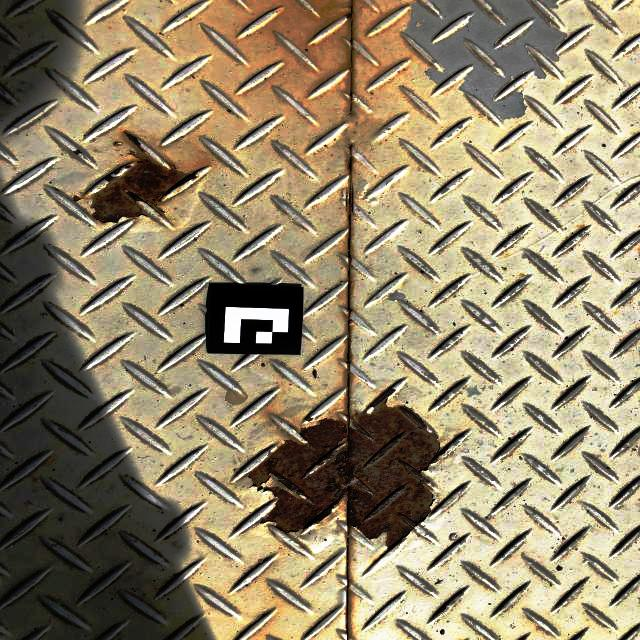Corrosion: (246, 378, 444, 563), (73, 130, 194, 227)
